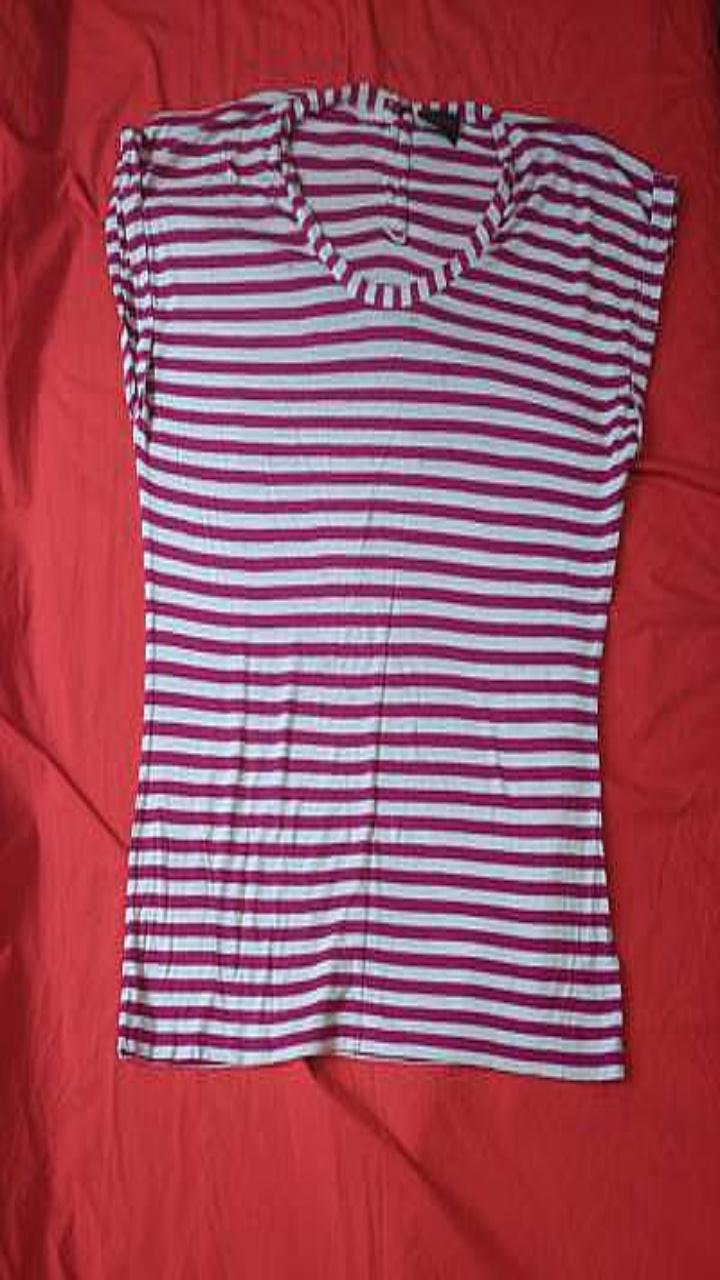T-Shirt: (105, 80, 678, 1080)
